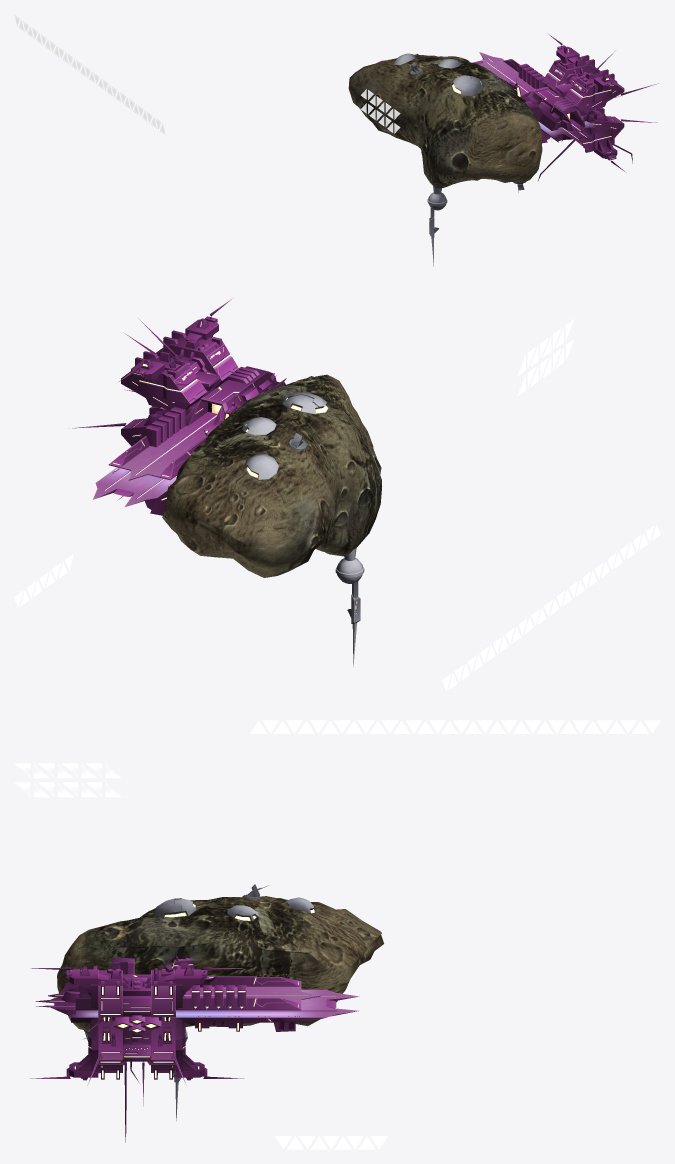
3 views of the same model, one above another, from view 1: azimuth 30°, elevation 25°; view 2: azimuth 150°, elevation 25°; view 3: azimuth 270°, elevation 25° (orthographic). The views are drawn at different scales.
Parts seen in each view (by area): view 1: body; view 2: body; view 3: body.
Boxes of the visible parts, <box> form: body: <box>14,14,658,266</box>; body: <box>14,299,660,691</box>; body: <box>14,720,660,1149</box>.
Bounding box in the file's own units: 6824 × 3331 × 6508.
Materials: 4 (4 with a texture image).
